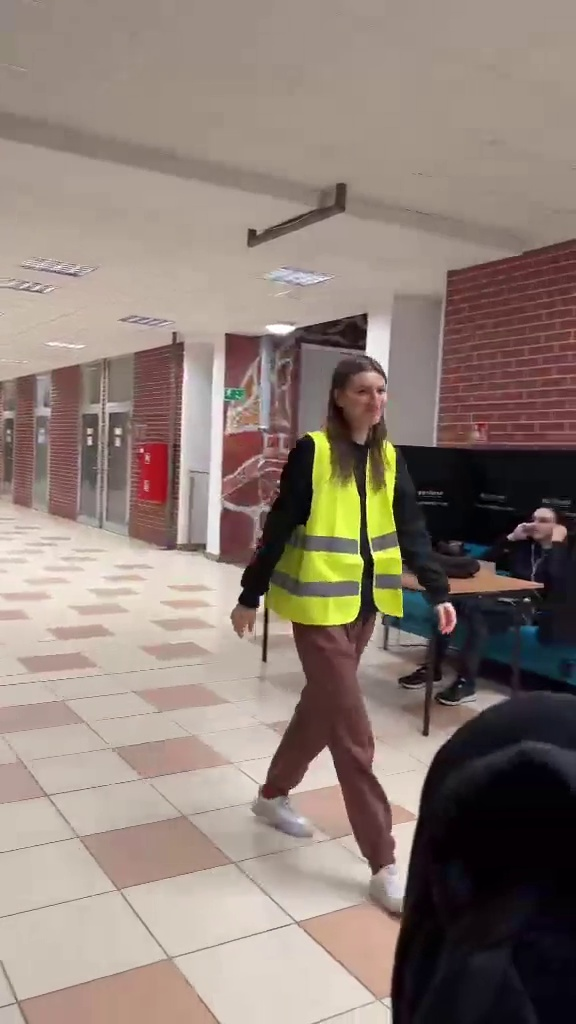no vest: (422, 483, 572, 705)
vest: (235, 348, 459, 922)
